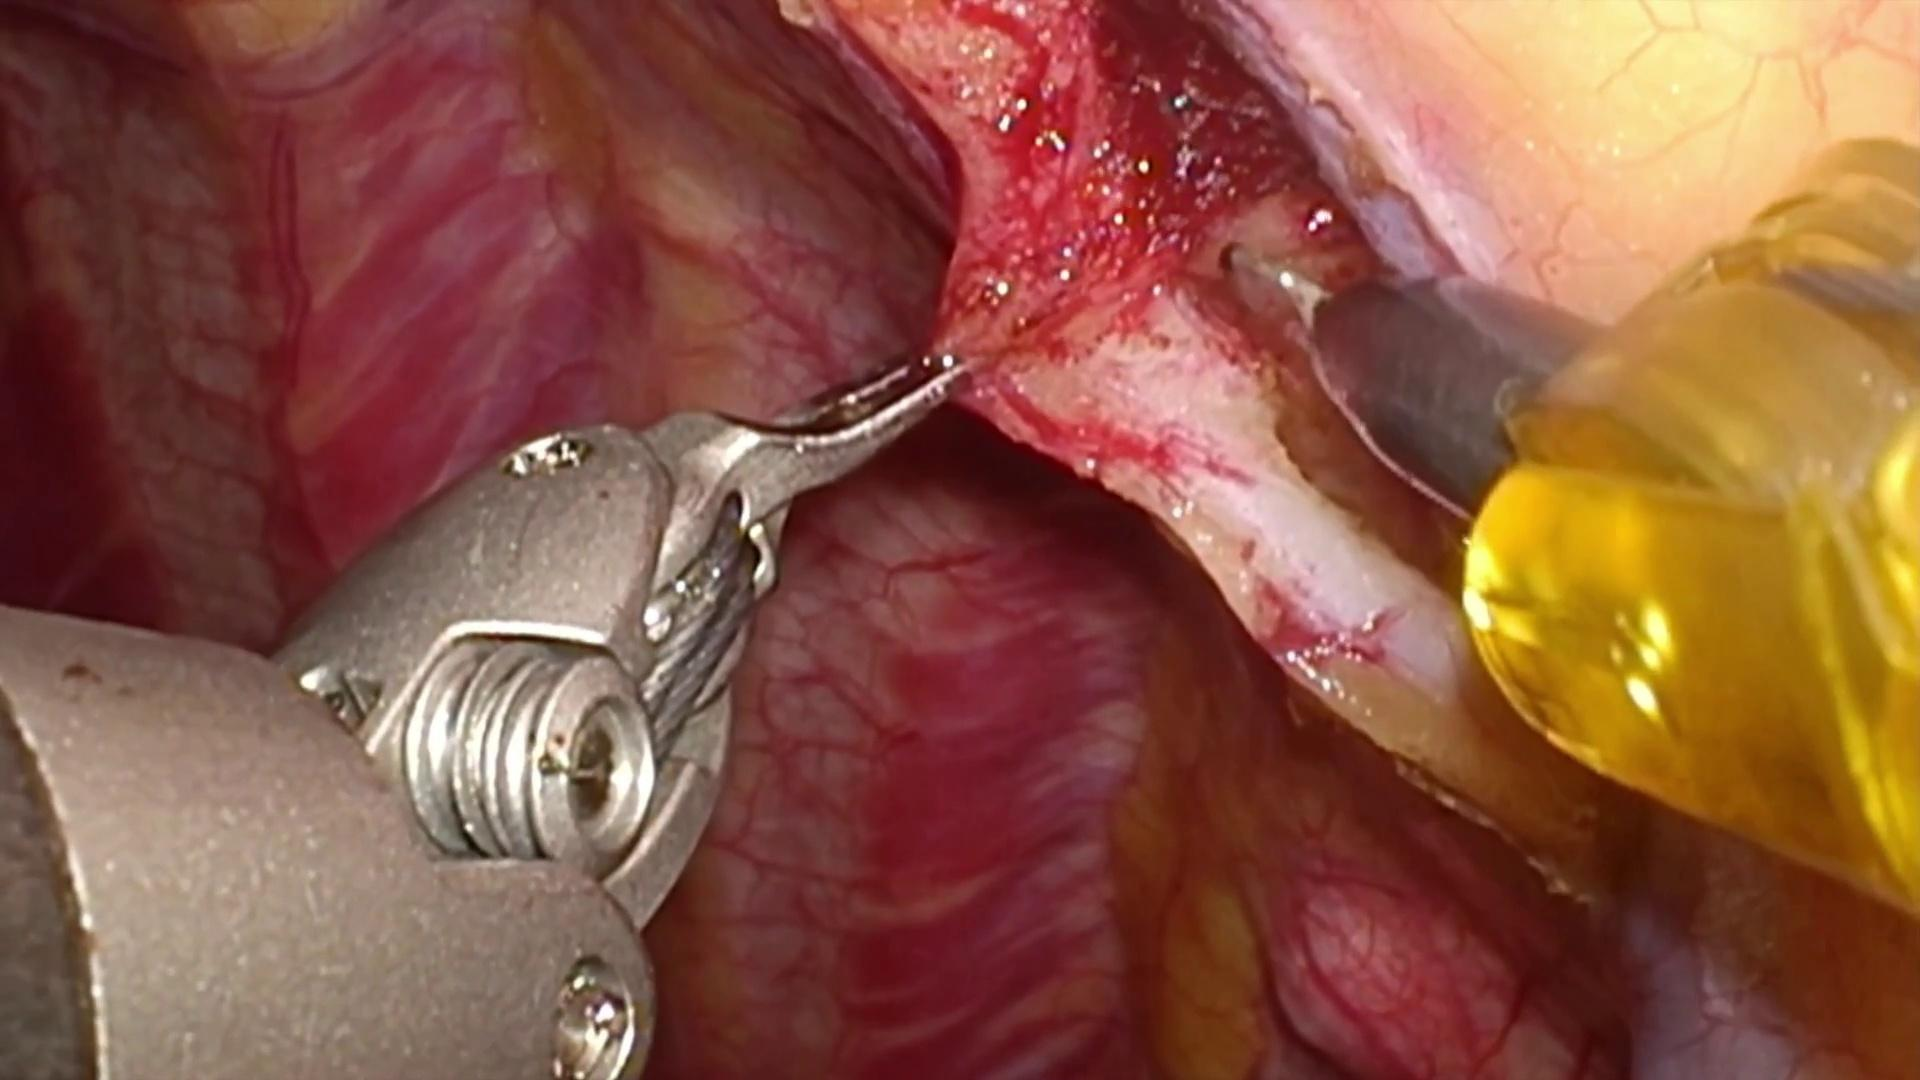Cautery_Spatula: (1216, 224, 1607, 530)
Debakey: (628, 313, 989, 567)
